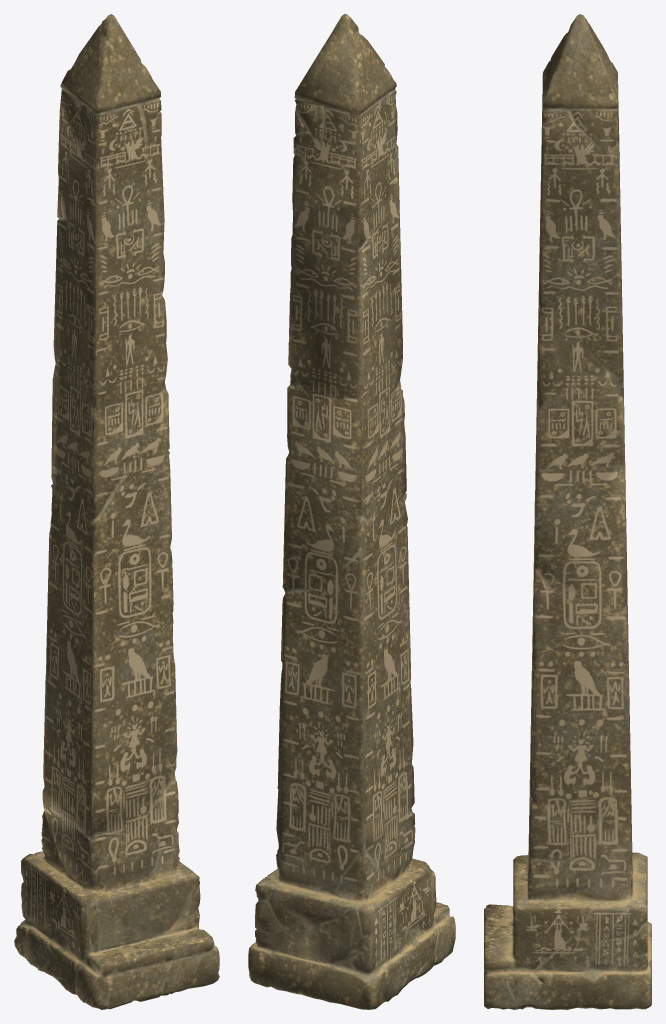
The model's file is obelisk.glb.
3 renders of one model, left to right at view 1: azimuth 30°, elevation 25°; view 2: azimuth 150°, elevation 25°; view 3: azimuth 270°, elevation 25°, orthographic.
Parts seen in each view (by area): view 1: T1_Obelisk; view 2: T1_Obelisk; view 3: T1_Obelisk.
Boxes of the visible parts, left/top/right/bottom form: T1_Obelisk: left=14, top=14, right=219, bottom=1009; T1_Obelisk: left=248, top=14, right=455, bottom=1009; T1_Obelisk: left=484, top=14, right=651, bottom=1009.
Size of the model in its own units: 0.2744 by 2 by 0.3156.
Materials: 1 (1 with a texture image).
